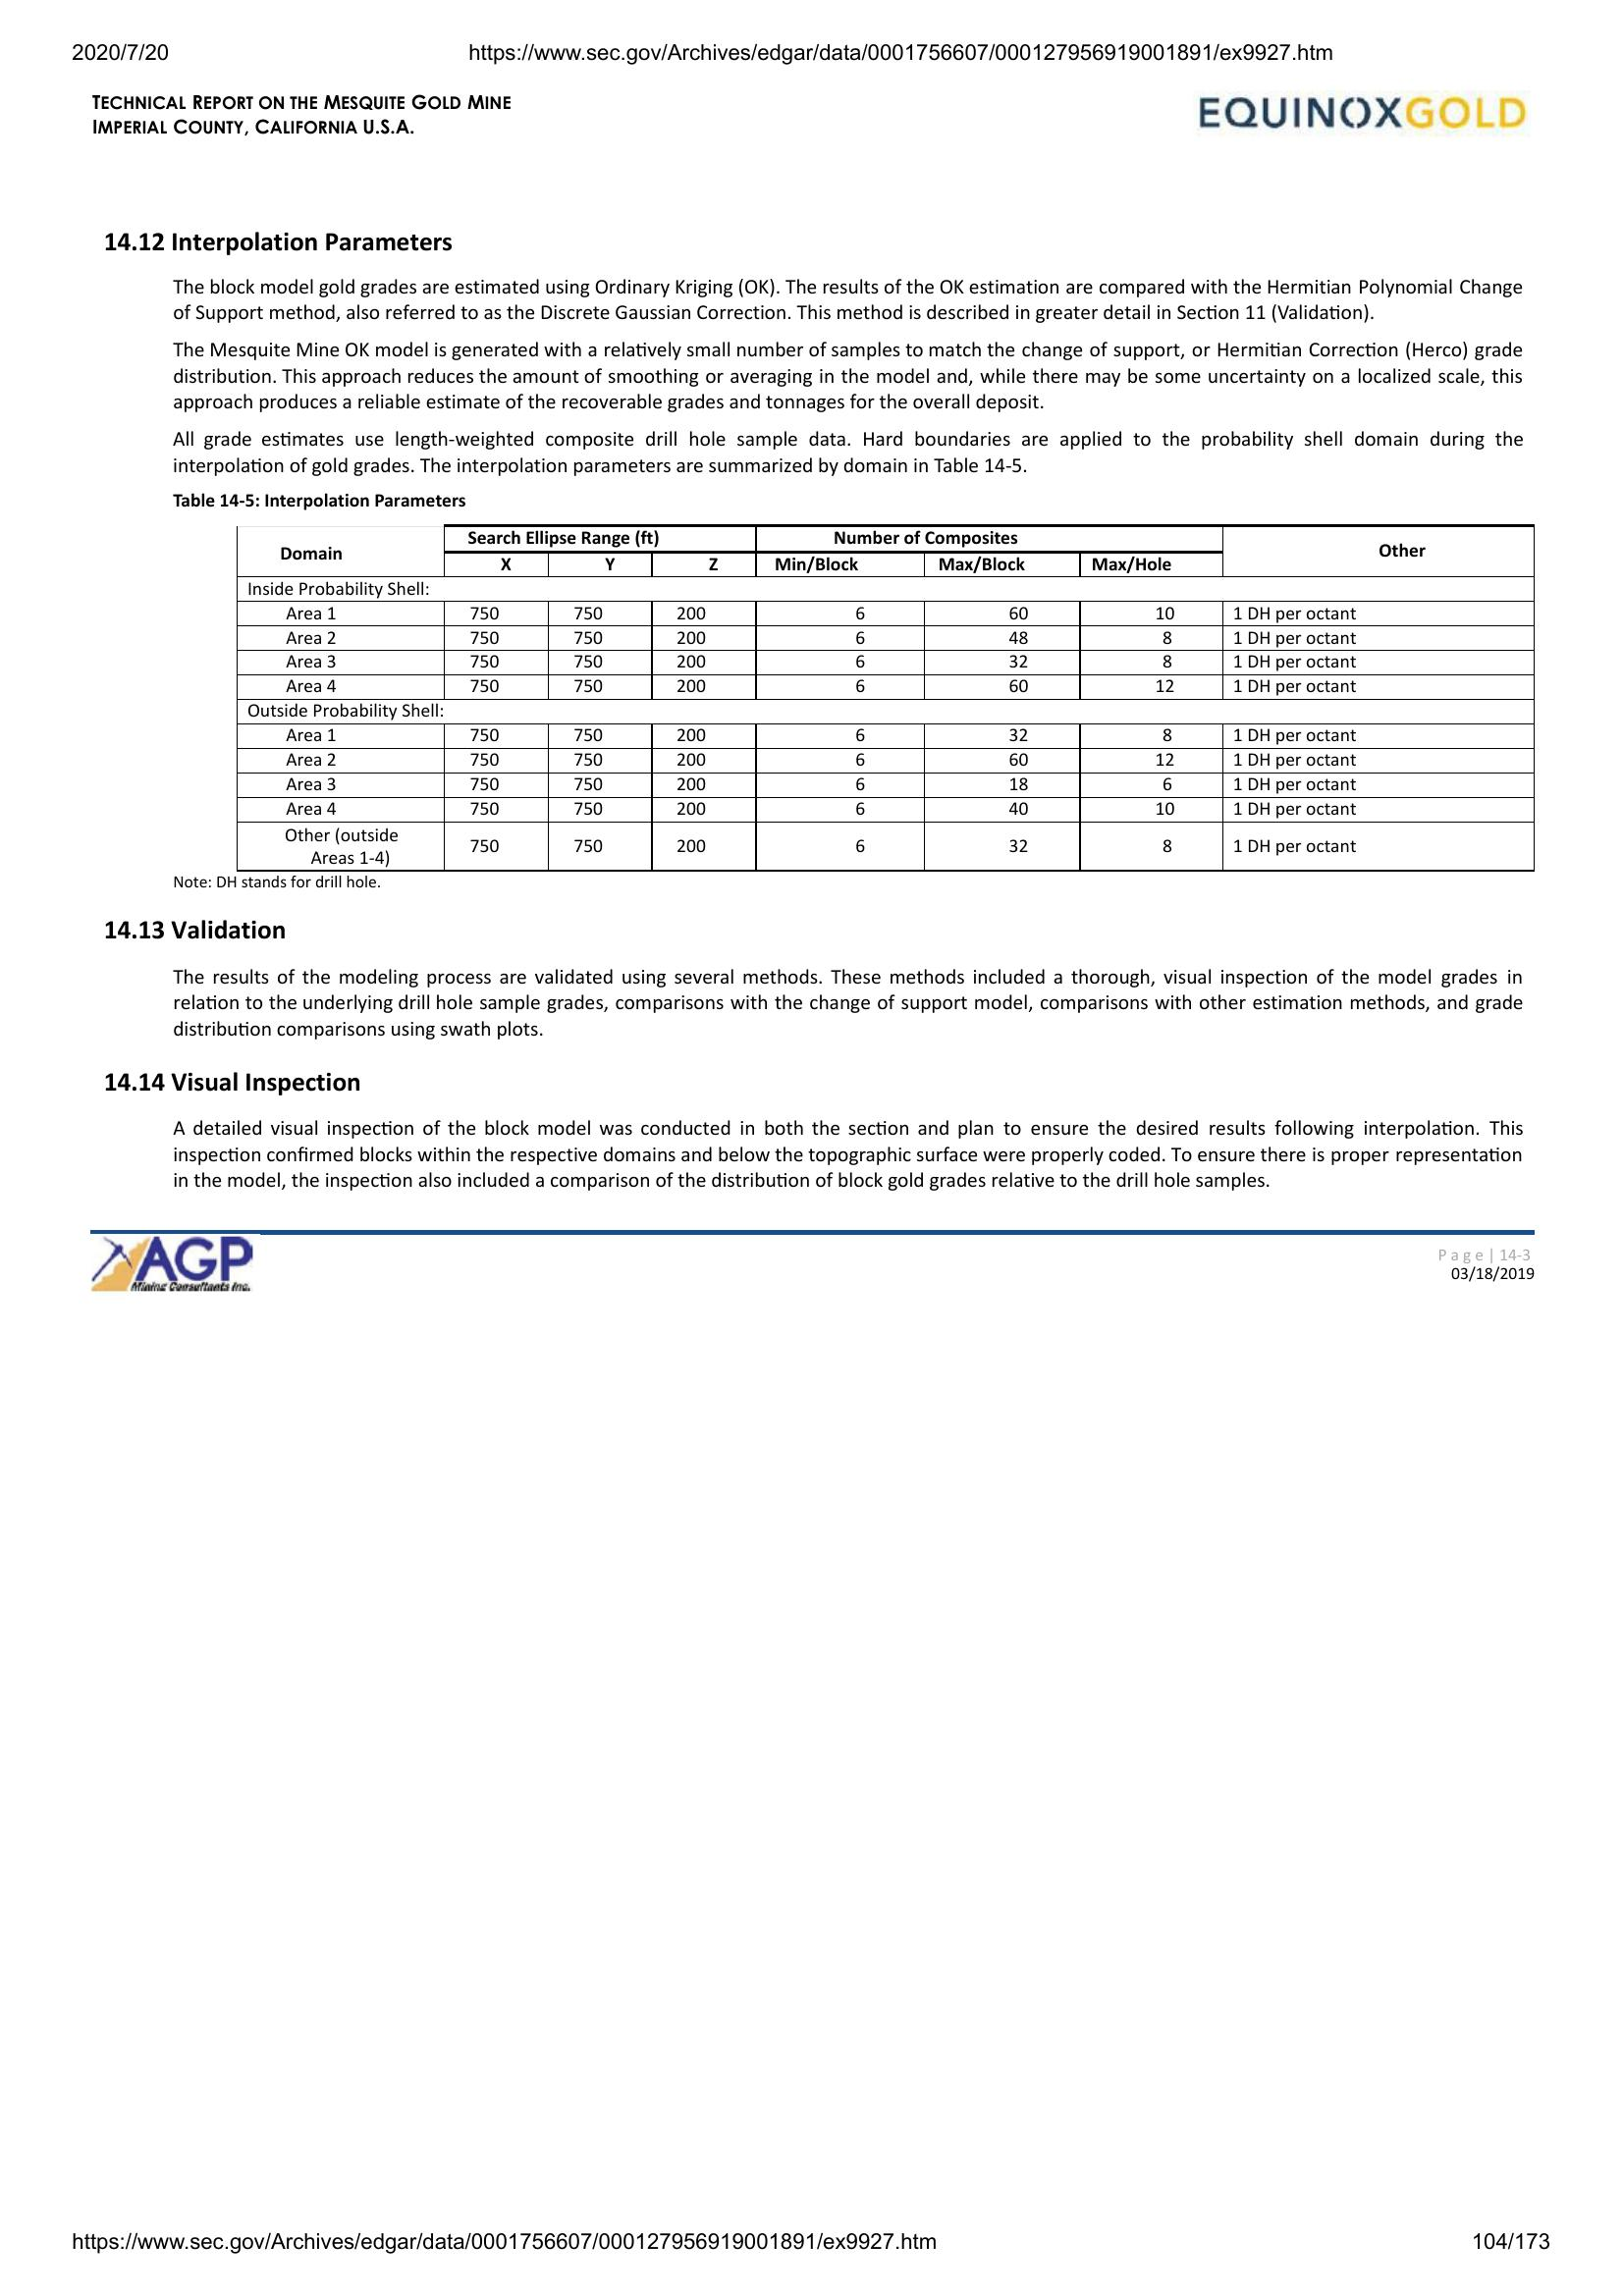table: (228, 520, 1540, 879)
